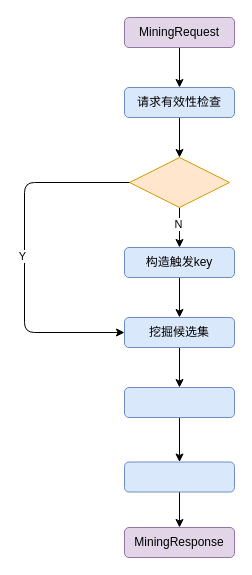
This 252x575 diagram has some shape labels left out. Here are the shapes that lost their labels. From the top down, the box of each, then its label:
(128, 156, 230, 208): sku跟单
(124, 386, 234, 418): 访问sku service
(124, 461, 234, 492): 过滤&排序
